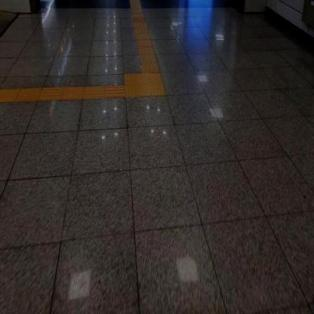Podoctatil: (111, 56, 173, 111), (0, 84, 125, 104), (128, 0, 160, 73)
